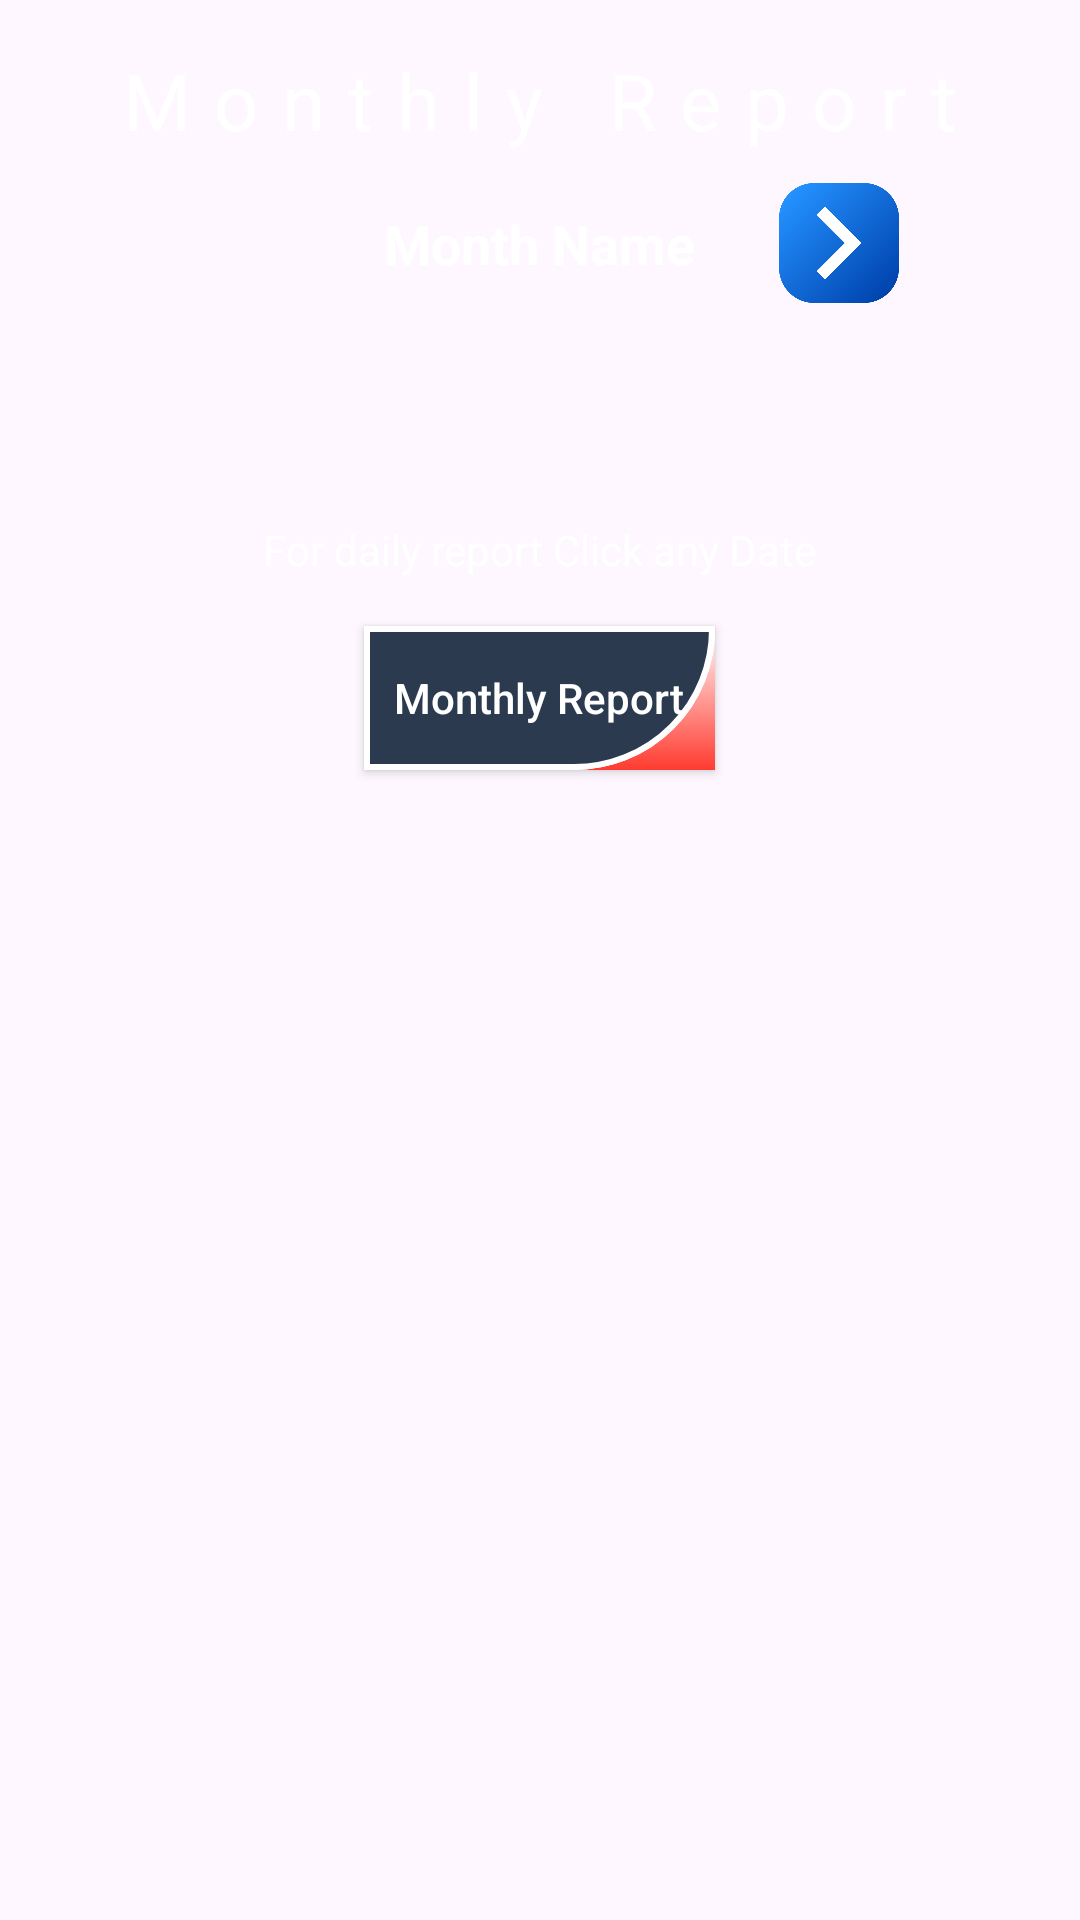

Icon bounding boxes for this 1080 × 1920 phone screenshot, format [x1, y1, x2, y2]:
Next Month: [779, 183, 899, 303]
